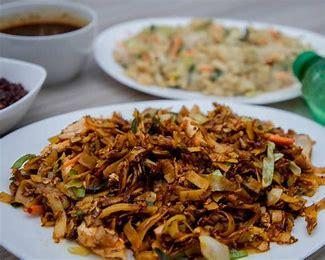Kottu: (30, 105, 317, 258)
